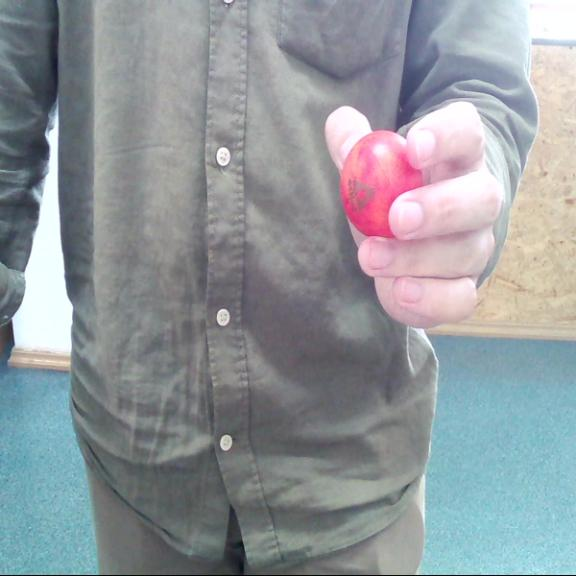ball: (344, 130, 424, 238)
